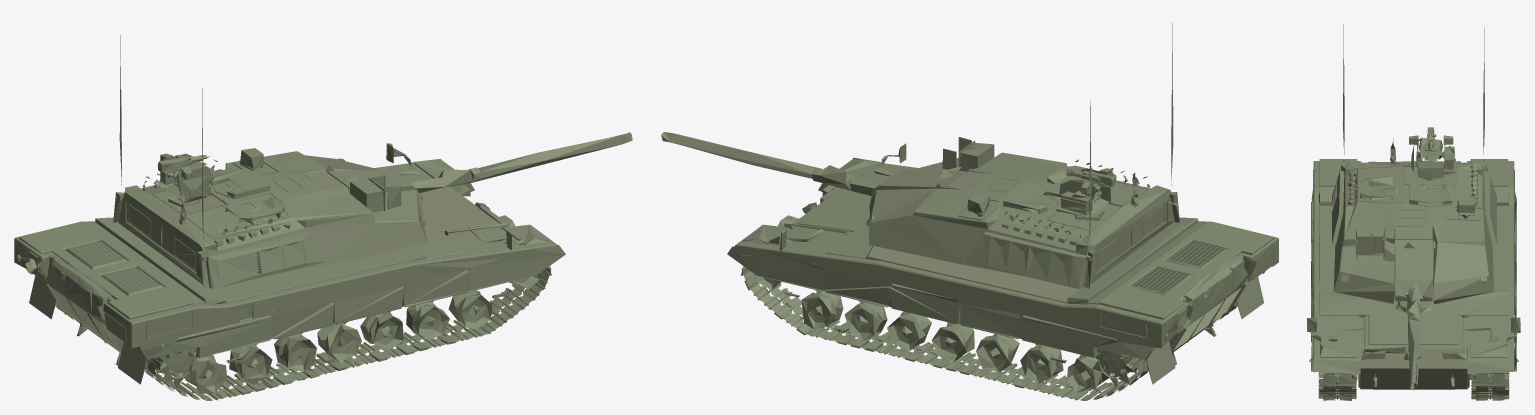
Rendered from tank.glb.
3 views of the same model, side by side, from view 1: azimuth 30°, elevation 25°; view 2: azimuth 150°, elevation 25°; view 3: azimuth 270°, elevation 25° (orthographic). The views are drawn at different scales.
Parts seen in each view (by area): view 1: geometry_0; view 2: geometry_0; view 3: geometry_0.
Boxes of the visible parts, x1,y1,x2,y2 form: geometry_0: (14, 35, 632, 400); geometry_0: (661, 23, 1278, 400); geometry_0: (1307, 24, 1520, 400).
Size of the model in its own units: 8966 by 4847 by 3444.
